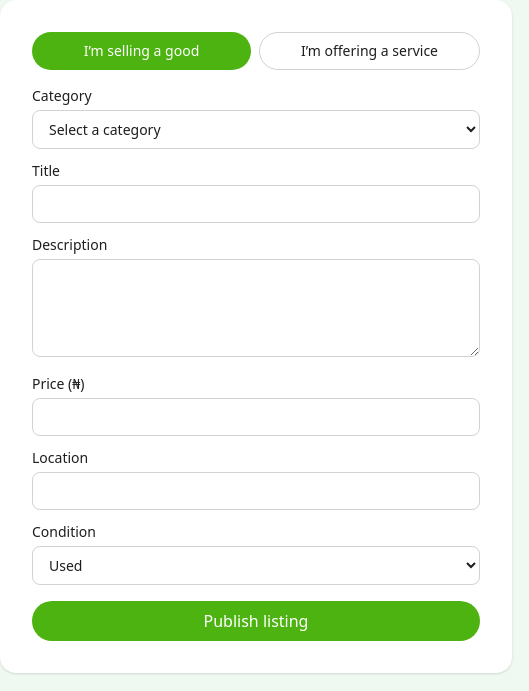
Test: ListingForm › switches to service fields and requires a service_area instead of condition
Click the button "I’m offering a service" at (370, 51), box [259, 32, 480, 70]
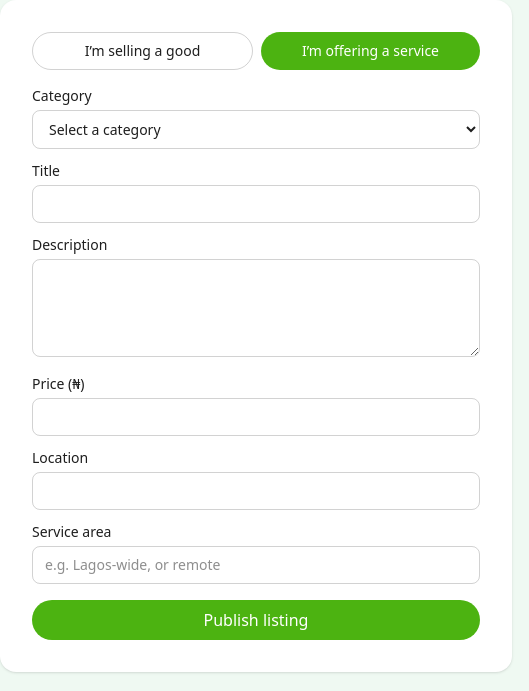
Expected: the text "Condition" is gone
Expected: the text "Service area" is shown, [32, 522, 480, 584]
